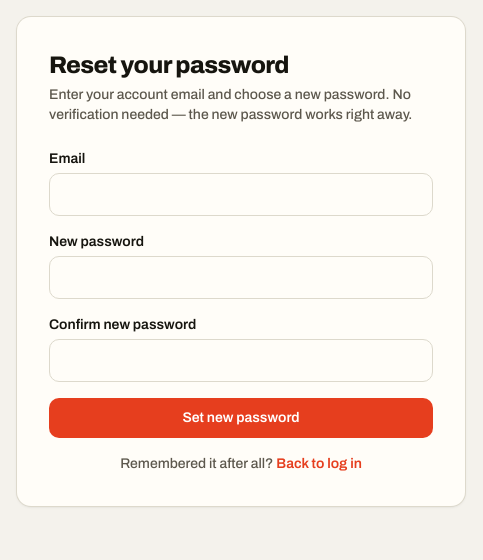
Scenario: ForgotPasswordPage › unknown email: the server message is shown on the form
Type "ghost@example.com" into the field with id "forgot-email" at (241, 194), box top-left (49, 173), bottom-right (433, 216)
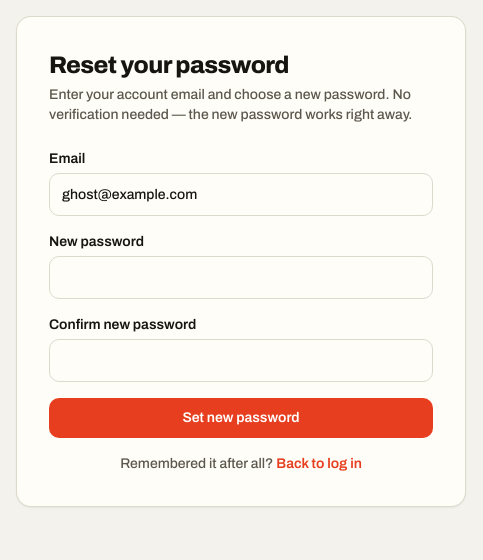
Type "new-password-1" into the password field with id "forgot-new-password" at (241, 278), box top-left (49, 256), bottom-right (433, 299)
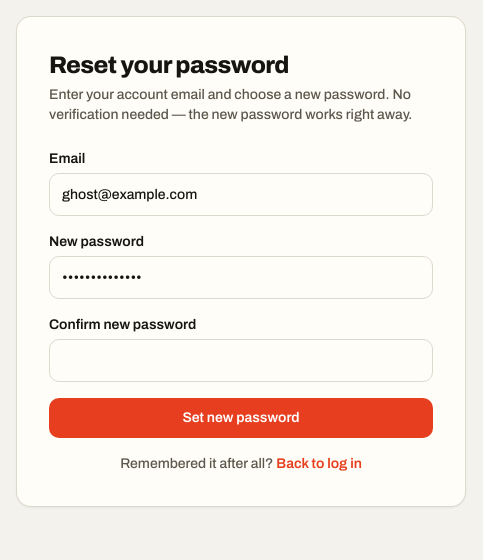
Type "new-password-1" into the password field with id "forgot-confirm-password" at (241, 360), box top-left (49, 339), bottom-right (433, 382)
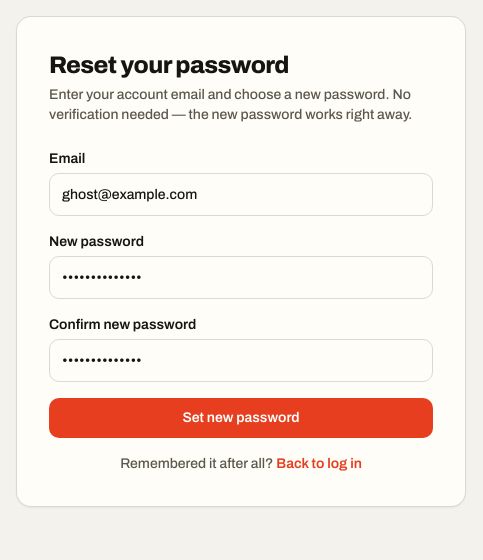
Submit the form, box top-left (49, 149), bottom-right (433, 438)
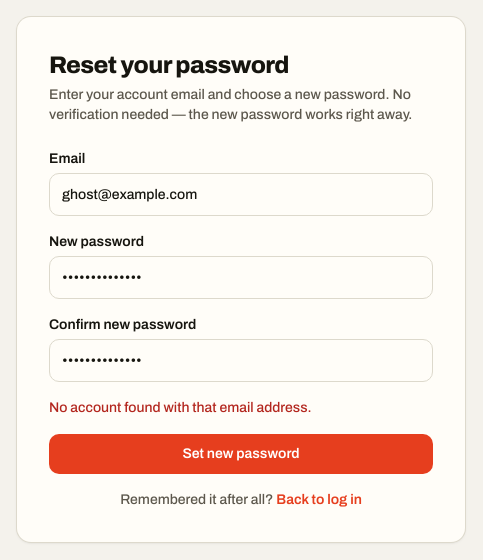
Check: the message "No account found with that email address." is shown, box top-left (49, 400), bottom-right (312, 415)
